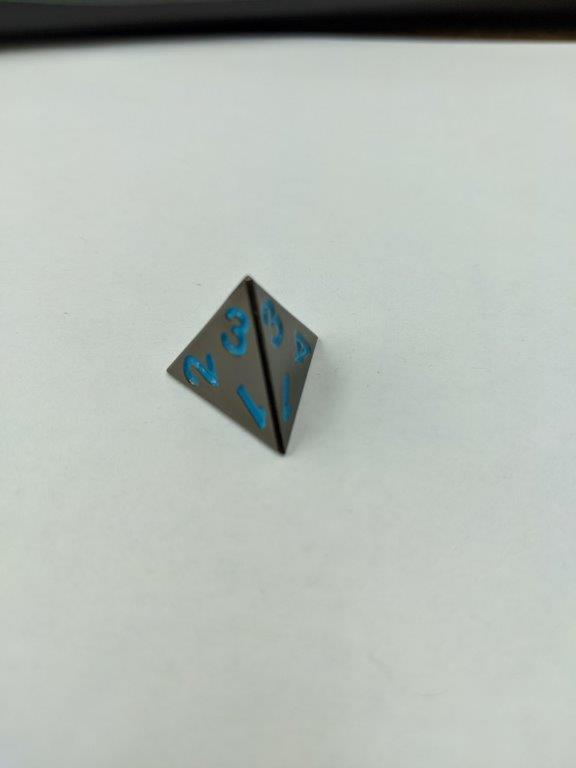d4-3: (162, 272, 323, 458)
